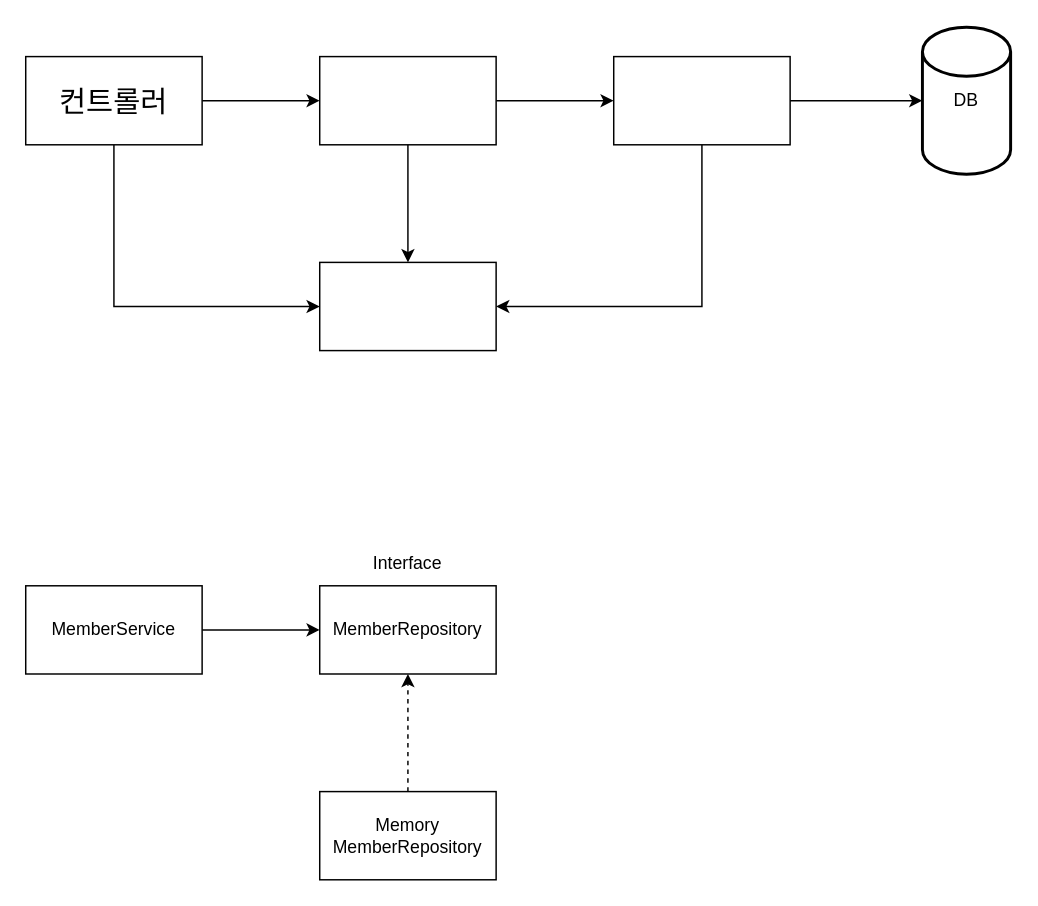
This 1038x906 diagram has some shape labels left out. The centre of each missing label's shape, as x and y in pixels:
"도메인" goes at [407,306].
"리포지토리" goes at [701,100].
"서비스" goes at [407,100].
